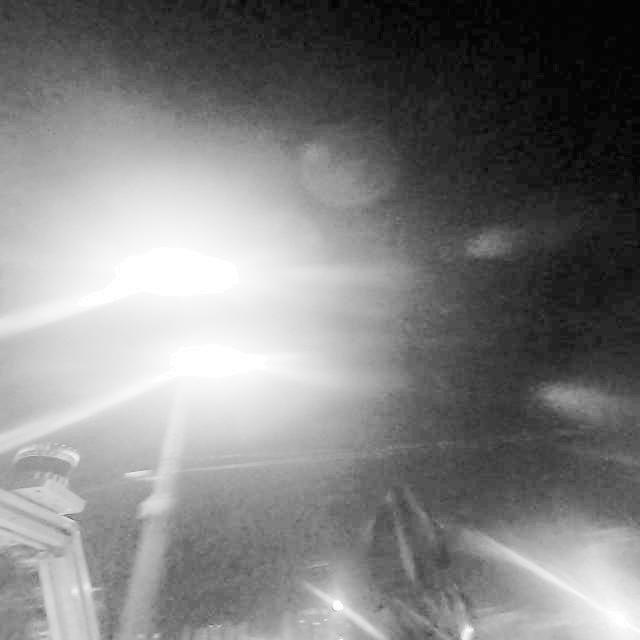Light: (105, 242, 244, 315), (165, 342, 271, 394)
